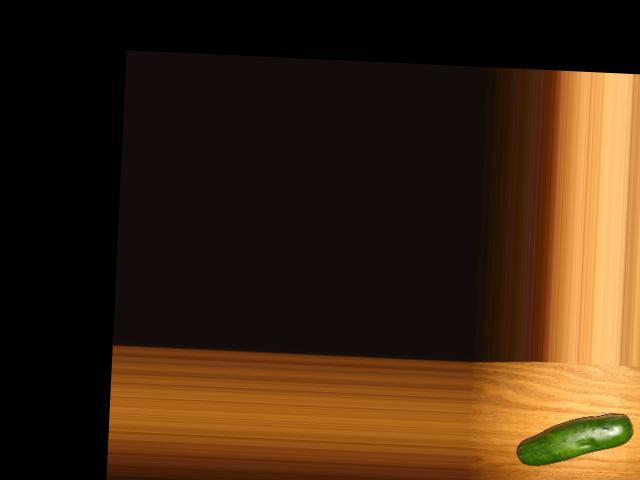cucumber: (515, 408, 632, 469)
